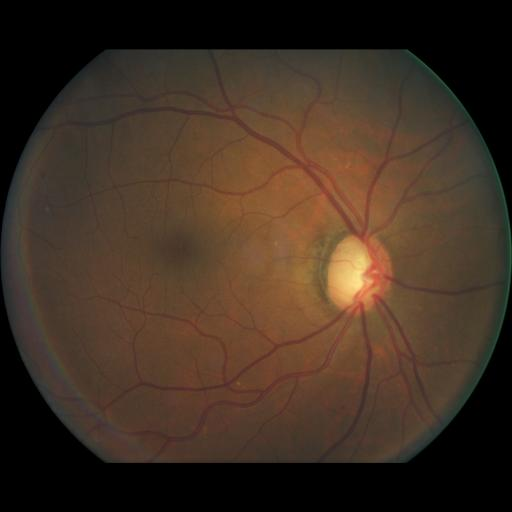Optic Cup: (349, 253, 380, 295)
Optic Disc: (327, 235, 394, 316)
